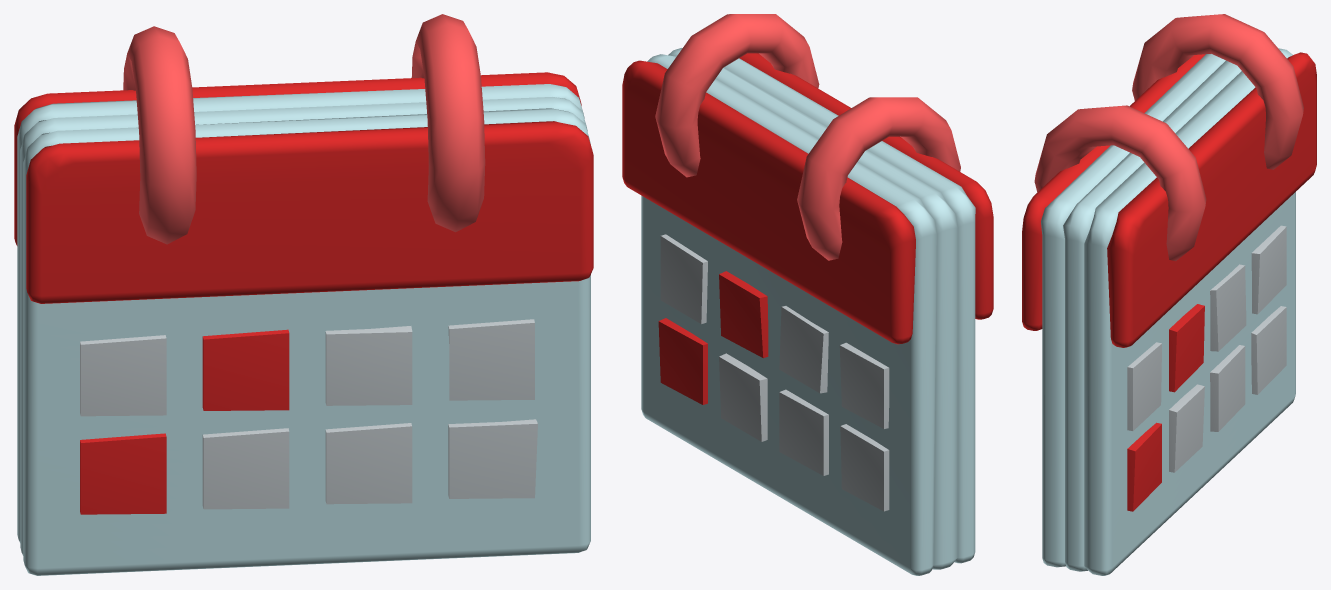
3 renders of one model, left to right at view 1: azimuth 30°, elevation 25°; view 2: azimuth 150°, elevation 25°; view 3: azimuth 270°, elevation 25°, orthographic. The views are drawn at different scales.
Visible parts, largest first — view 1: model_1.008; view 2: model_1.008; view 3: model_1.008.
Part boxes in pixels (bbox=[...]): model_1.008: bbox=[14, 14, 593, 575]; model_1.008: bbox=[622, 14, 993, 575]; model_1.008: bbox=[1022, 14, 1316, 575].
Bounding box in the file's own units: 4 × 4.01 × 2.52.
